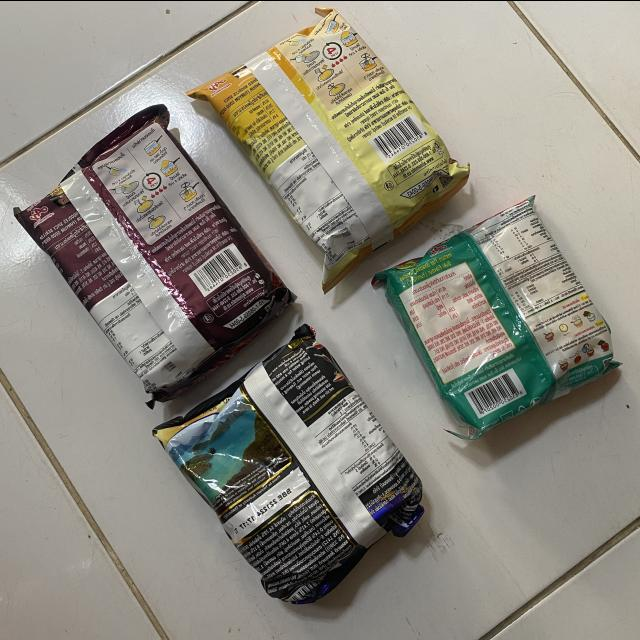plastik: (15, 104, 296, 406), (187, 7, 470, 291), (154, 324, 424, 603), (375, 195, 620, 438)
